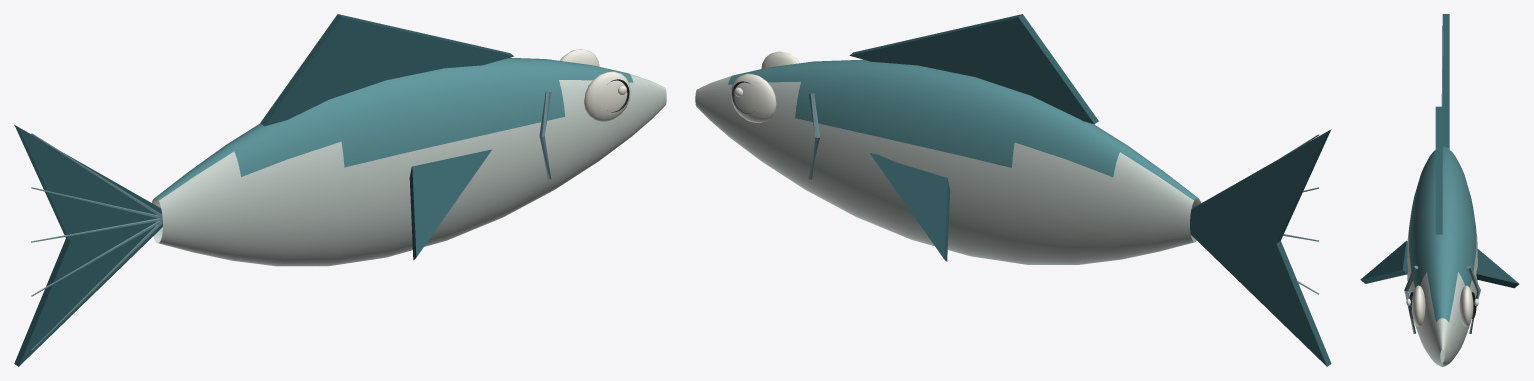
File: GoldenFish.fbx
3 renders of one model, left to right at view 1: azimuth 30°, elevation 25°; view 2: azimuth 150°, elevation 25°; view 3: azimuth 270°, elevation 25°, orthographic. The views are drawn at different scales.
Visible parts, largest first — view 1: SM_GoldenFish; view 2: SM_GoldenFish; view 3: SM_GoldenFish.
Boxes of the visible parts, <box> form: SM_GoldenFish: <box>14,14,666,366</box>; SM_GoldenFish: <box>695,14,1331,366</box>; SM_GoldenFish: <box>1360,14,1519,366</box>.
Size of the model in its own units: 0.75 by 0.305 by 0.2067.
